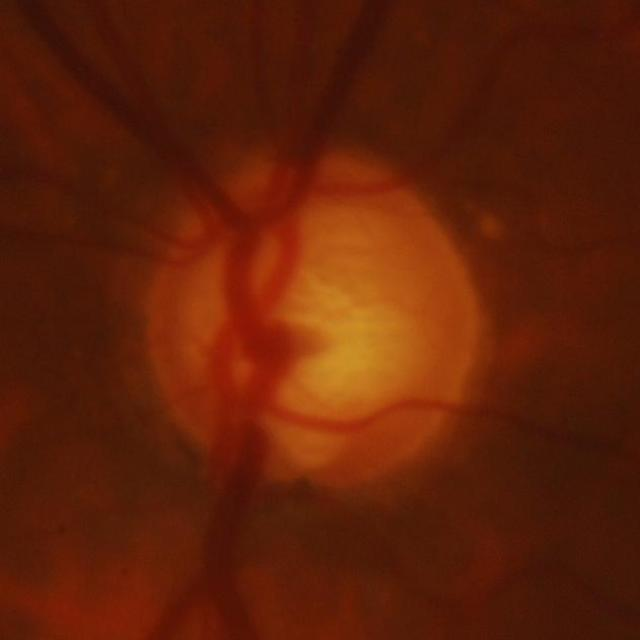OC: (232, 264, 400, 414)
OD: (154, 155, 478, 488)
